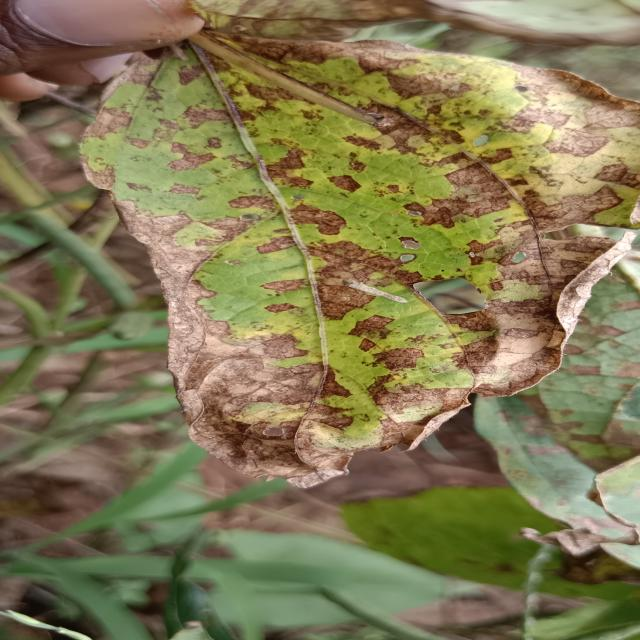Black gram_leaf spot: (74, 23, 640, 494)
